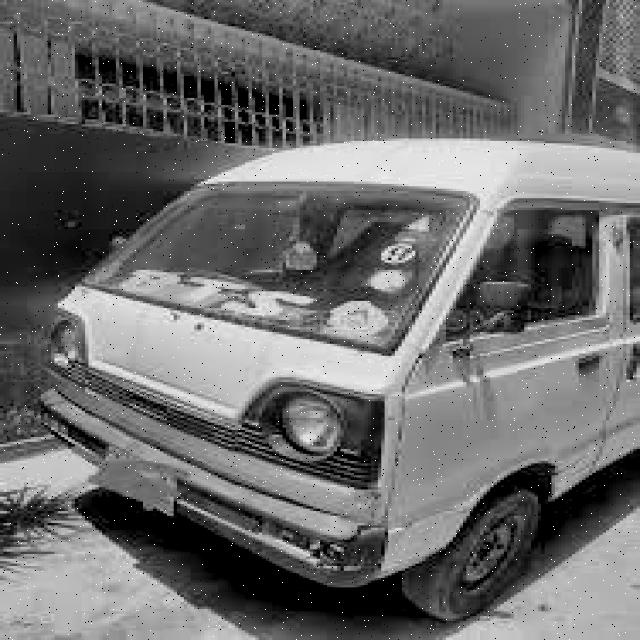Van: (37, 134, 640, 626)
